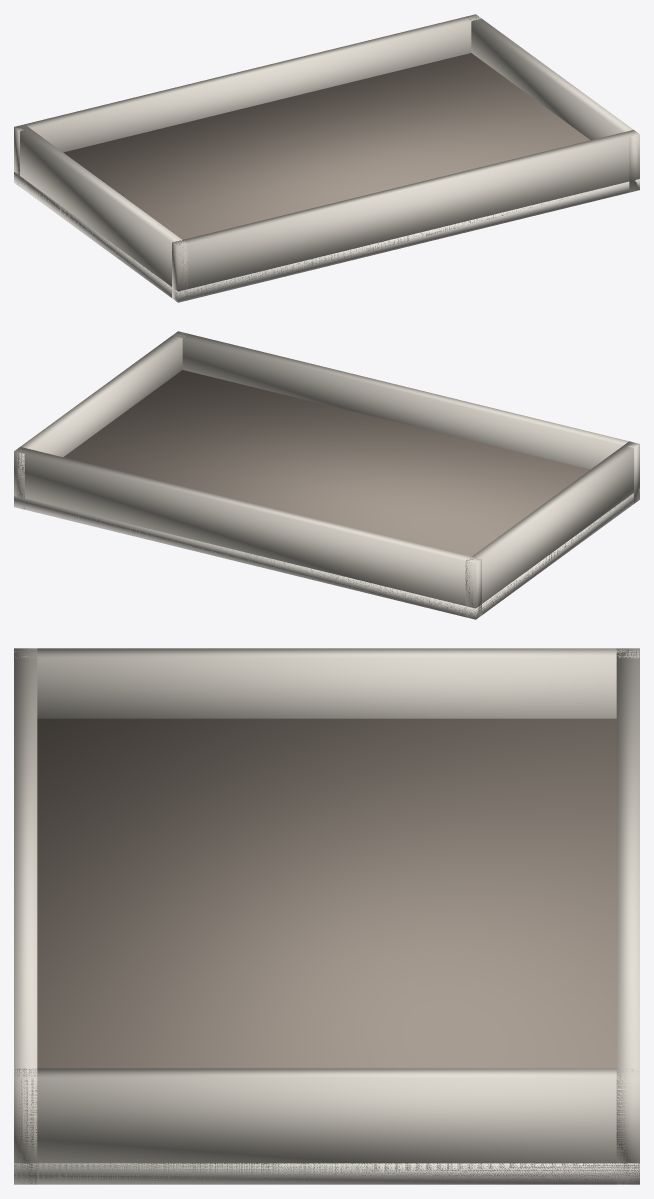
File: container_tray_l.glb
3 views of the same model, one above another, from view 1: azimuth 30°, elevation 25°; view 2: azimuth 150°, elevation 25°; view 3: azimuth 270°, elevation 25° (orthographic). The views are drawn at different scales.
Parts seen in each view (by area): view 1: soil, wall01, wall0-1, wall-10, floor, wall10; view 2: soil, wall0-1, wall01, wall-10, floor, wall10; view 3: soil, wall10, wall-10, floor, wall01, wall0-1.
Boxes of the visible parts, <box> form: soil: <box>63,53,590,239</box>; wall01: <box>172,130,639,301</box>; wall0-1: <box>14,14,480,184</box>; wall-10: <box>14,124,188,301</box>; floor: <box>14,172,639,302</box>; wall10: <box>468,15,639,192</box>; soil: <box>63,370,590,556</box>; wall0-1: <box>14,447,481,618</box>; wall01: <box>172,331,639,503</box>; wall-10: <box>465,441,639,618</box>; floor: <box>14,489,639,619</box>; wall10: <box>14,331,186,509</box>; soil: <box>37,718,616,1068</box>; wall10: <box>14,1068,639,1184</box>; wall-10: <box>14,648,639,718</box>; floor: <box>14,1163,639,1184</box>; wall01: <box>14,648,37,1184</box>; wall0-1: <box>616,648,639,1184</box>.
Bounding box in the file's own units: 0.52 × 0.06 × 0.32.
